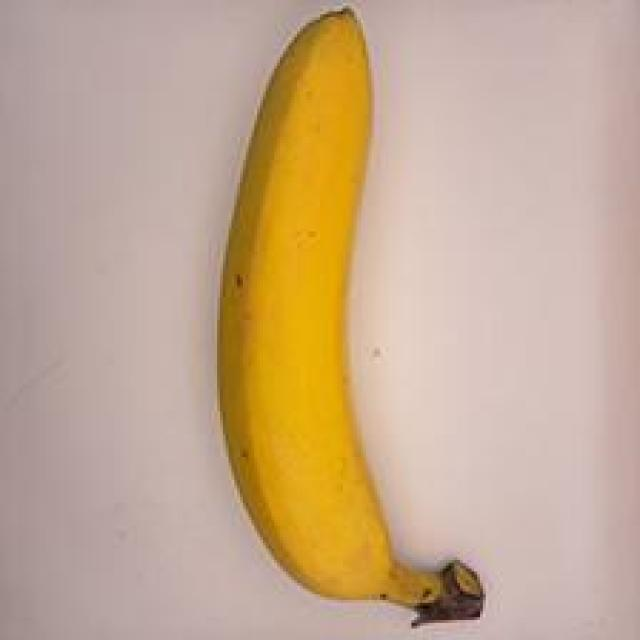Ripe: (150, 0, 508, 640)
